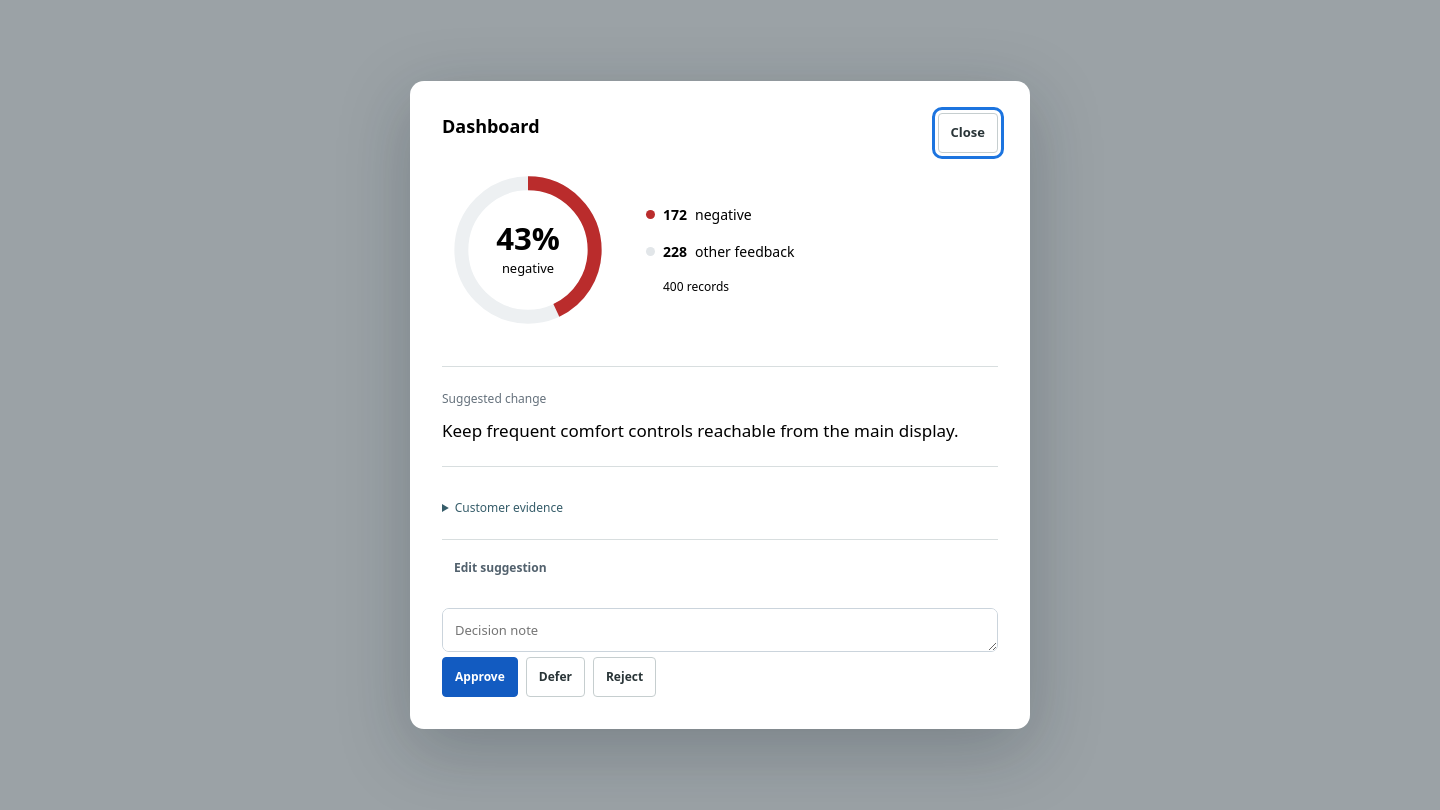
Test: replays an uncertain decision with identical body/key and refreshes real decision state
Step 1. Type "Prioritize comfort" into the text box labelled "Decision note" → (720, 630), box x1=442 y1=608 x2=998 y2=652
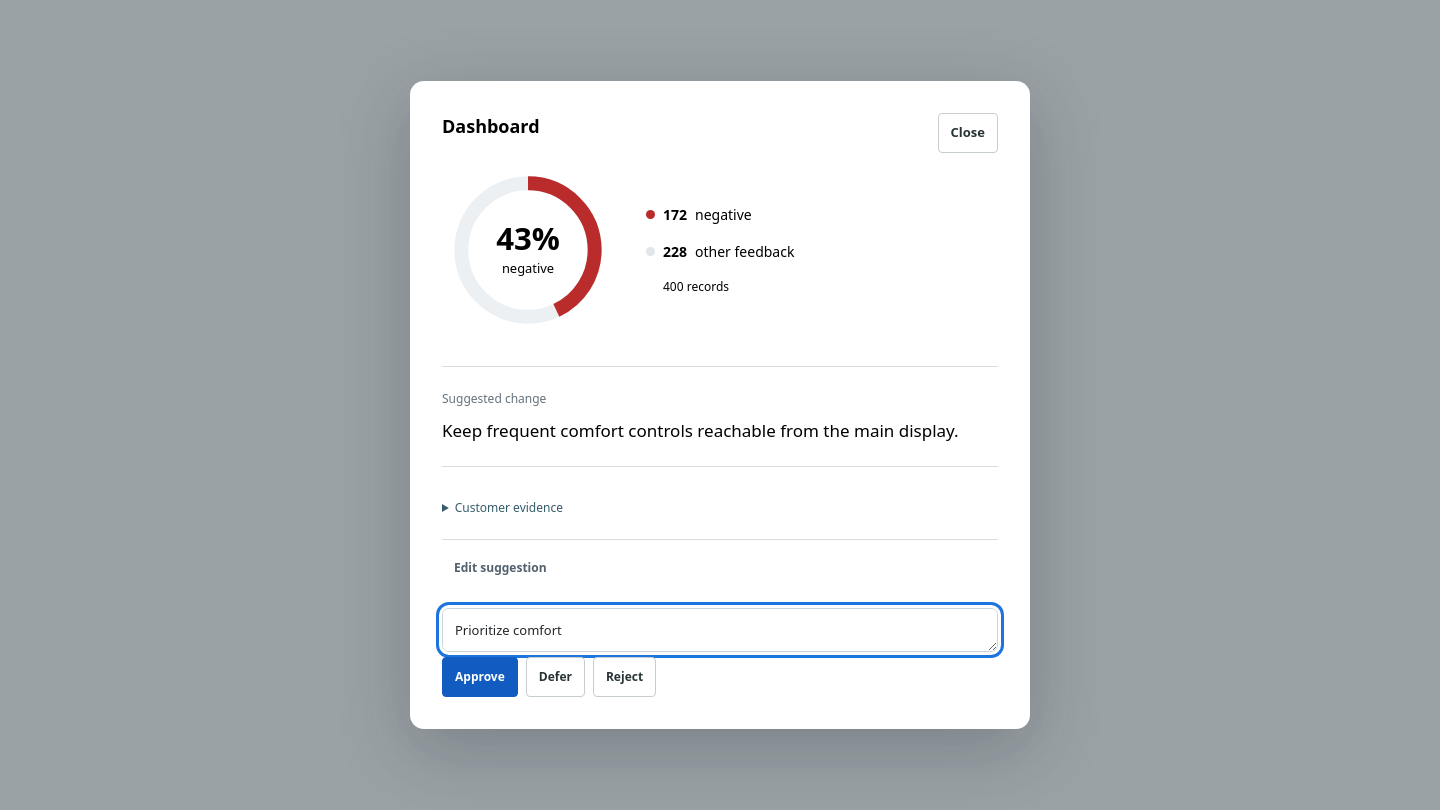
Step 2. Click the button "Approve" → (480, 677), box x1=442 y1=657 x2=518 y2=697
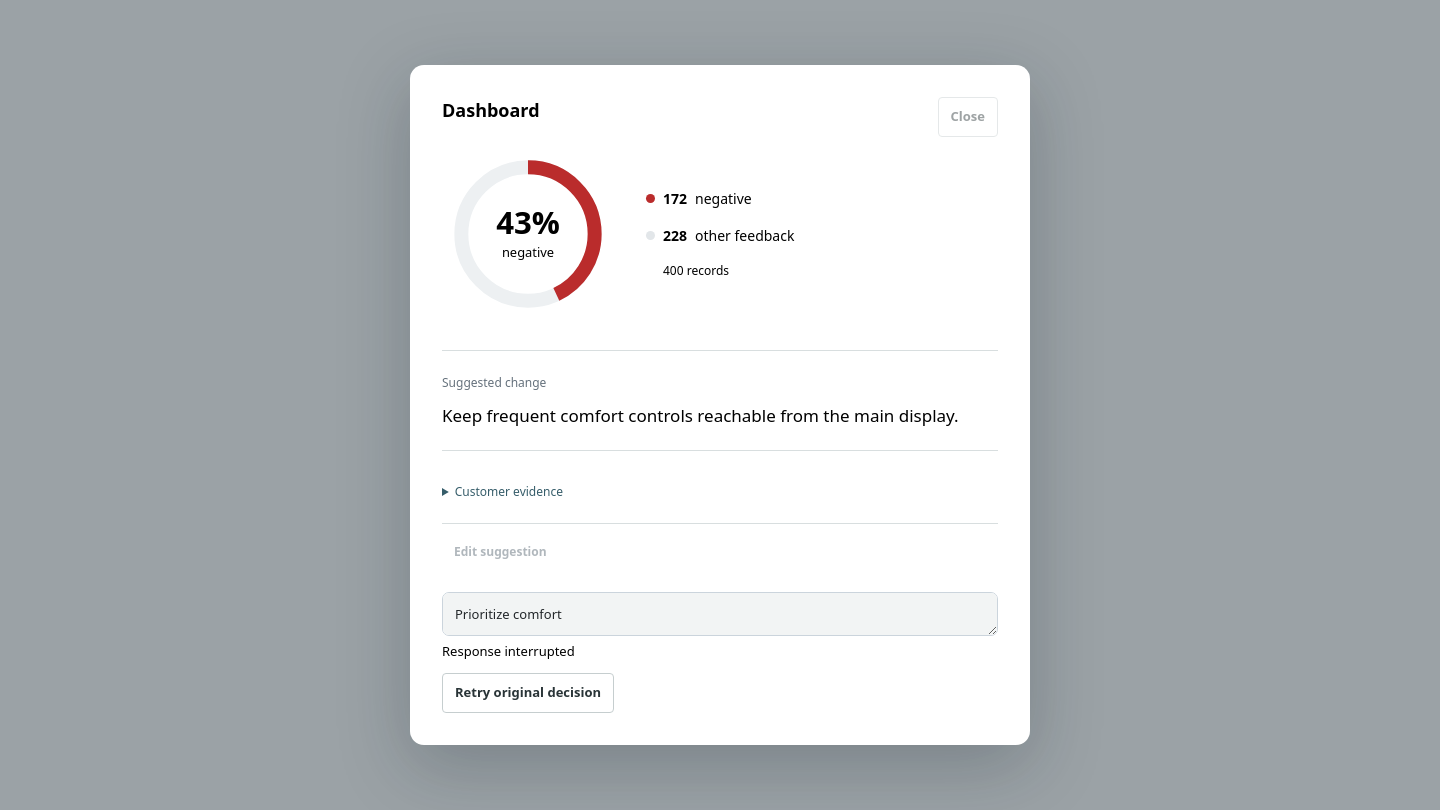
Expected: the text "Response interrupted" is shown, x1=442 y1=642 x2=575 y2=660
Expected: the button with aria-label "Close review" is disabled, x1=938 y1=97 x2=998 y2=137
Step 3. Click the button "Retry original decision" → (528, 693), box x1=442 y1=673 x2=614 y2=713
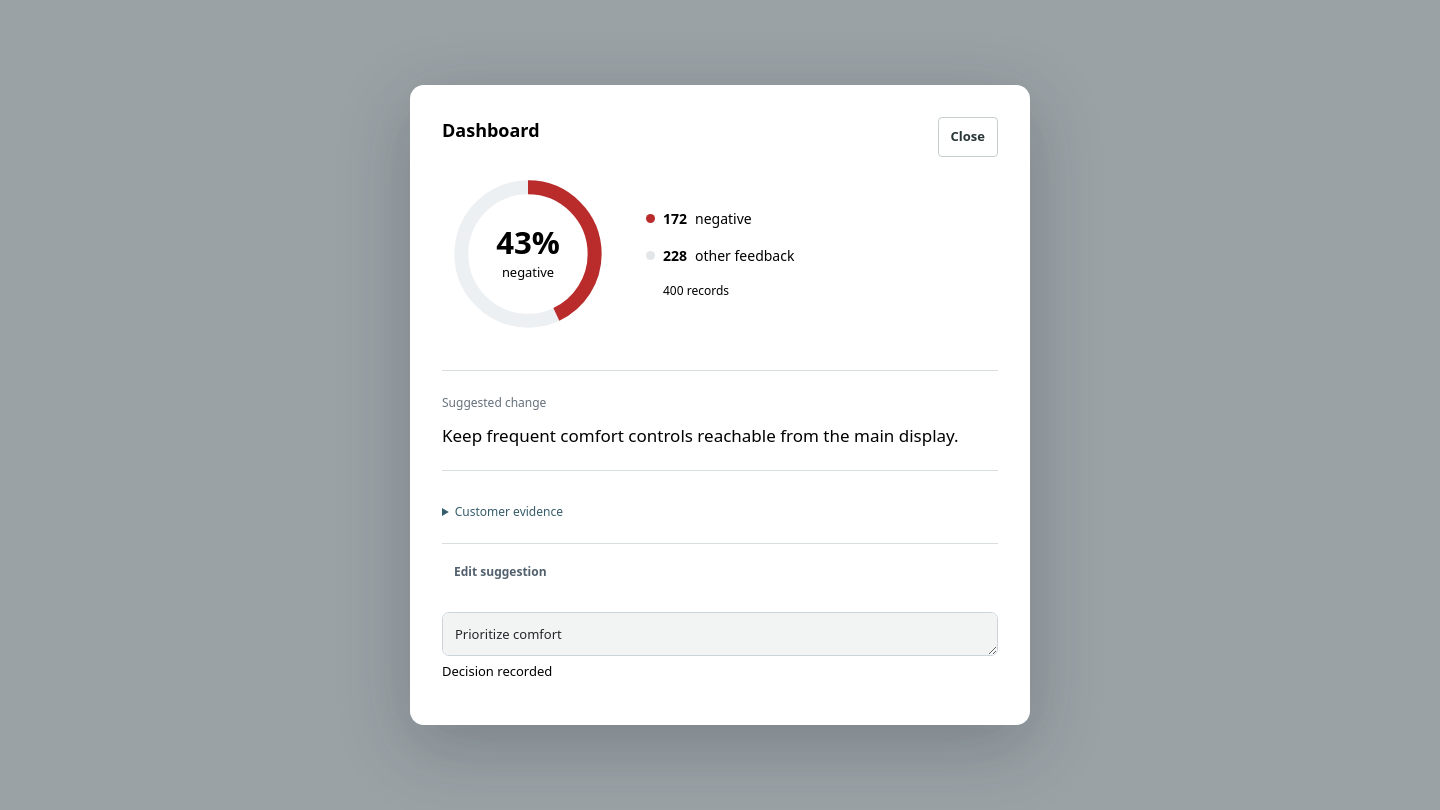
Expected: the text "Decision recorded" is shown, x1=442 y1=662 x2=552 y2=680
